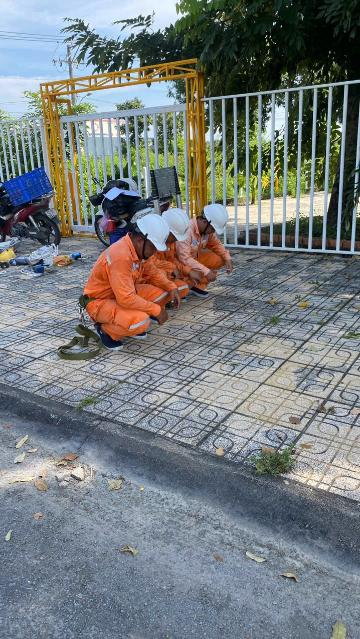harness: (68, 293, 125, 316)
helmet: (134, 211, 172, 254), (196, 197, 231, 239), (161, 203, 194, 241)
shoes: (89, 320, 126, 356), (185, 282, 214, 305)
